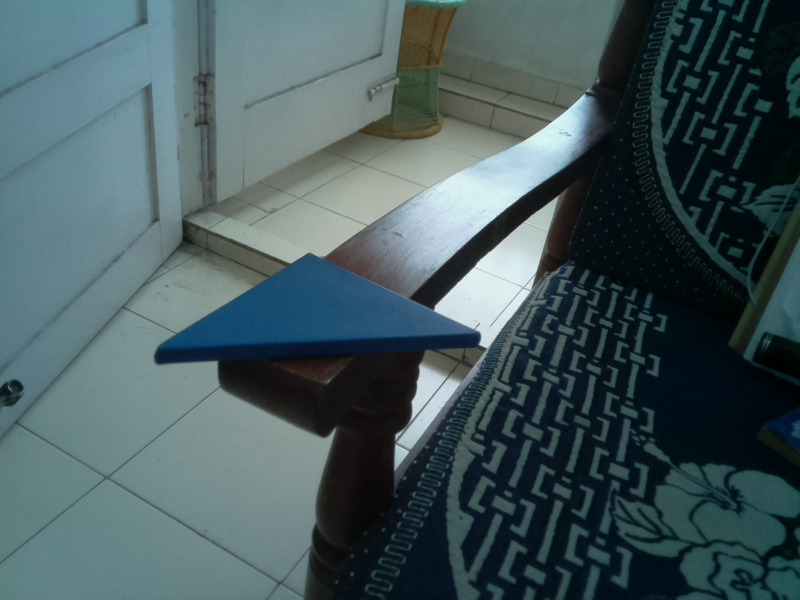Triangle: (149, 249, 485, 369)
